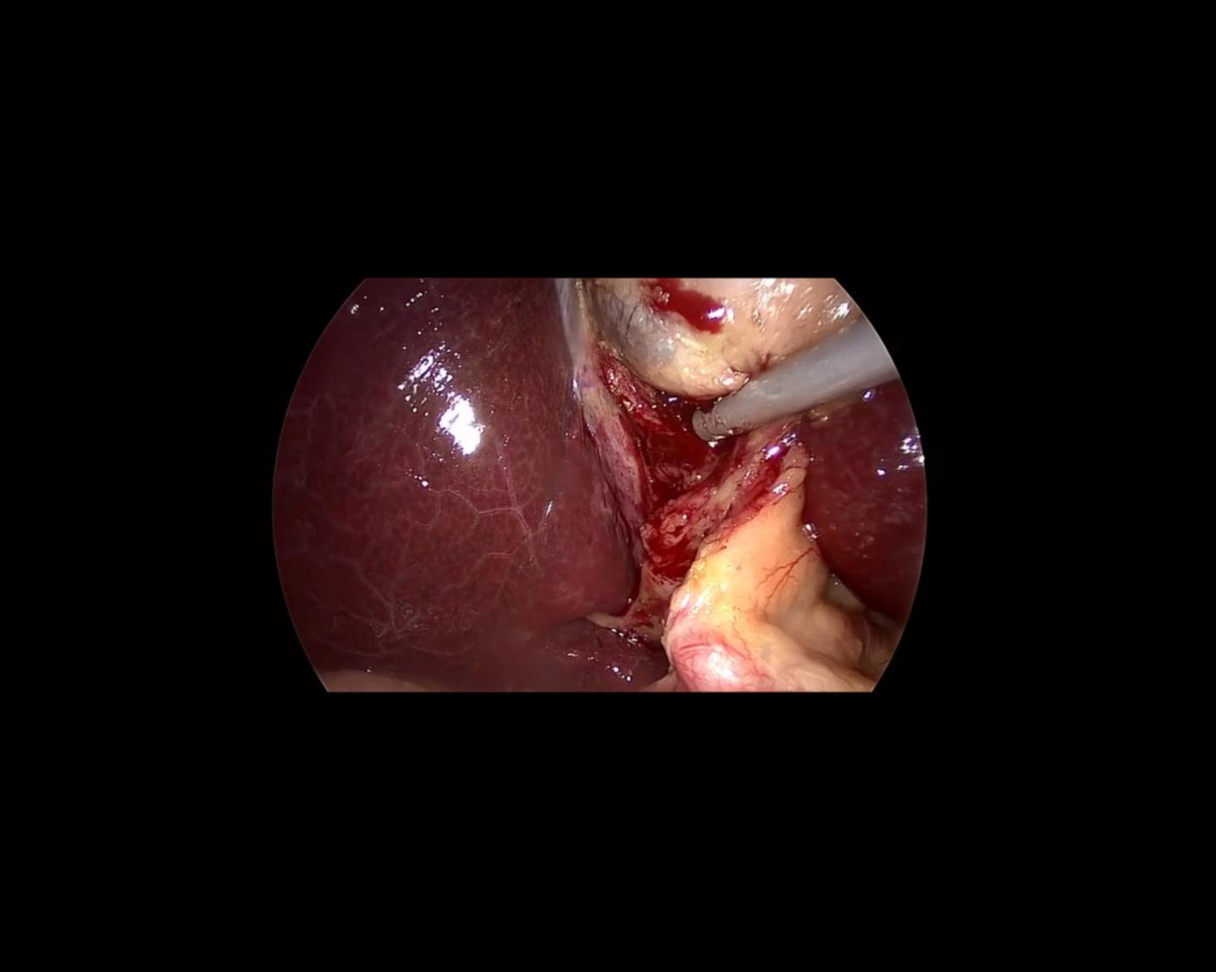Gallbladder: (584, 271, 863, 400)
Liver: (273, 279, 668, 693), (798, 381, 926, 622)
Suction: (681, 309, 901, 473)
